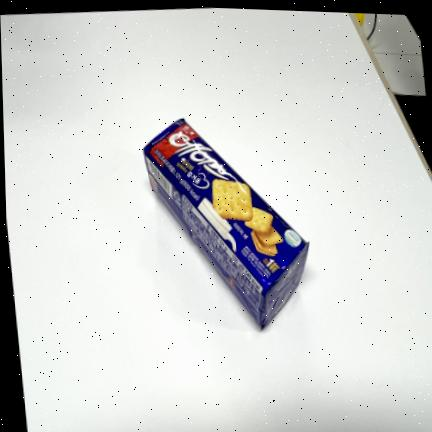cracker_ace: (140, 116, 310, 331)
